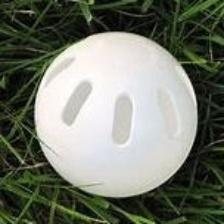Sports-Ball: (32, 30, 202, 201)
